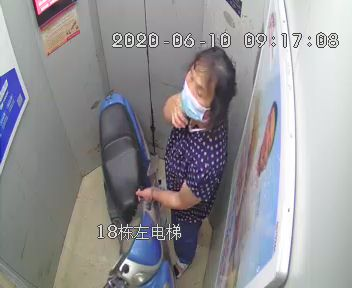Electric-bicycle: (95, 88, 171, 288)
